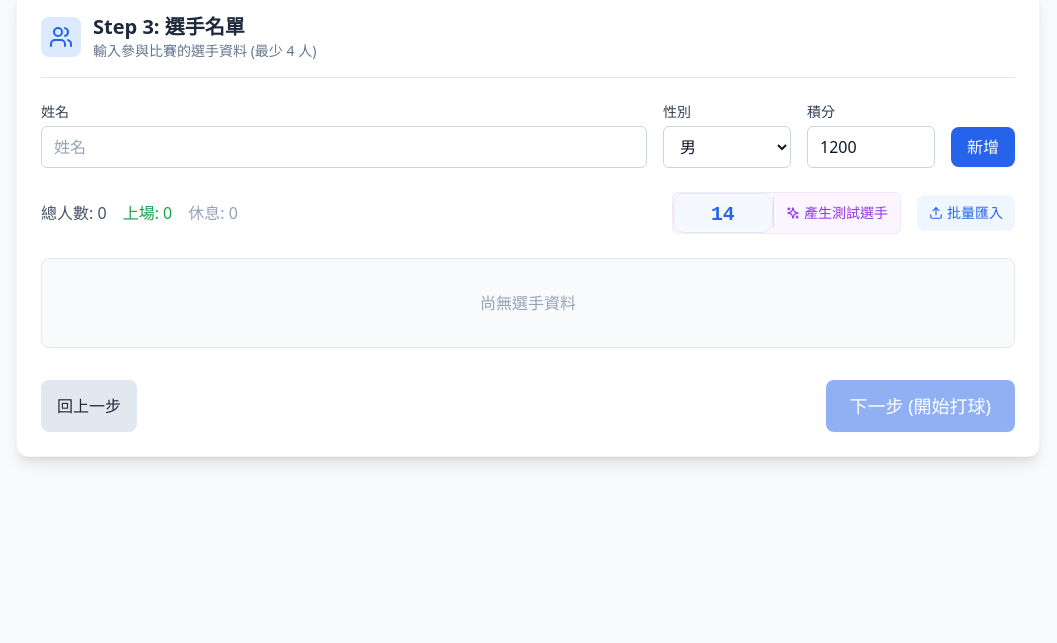
Test case: PlayerListScreen › keeps "下一步" disabled until at least 4 active players exist
(page scrolled)
Expected: the button "下一步 (開始打球)" is disabled, [826,380,1015,432]
Step 1. Type "P1" into the field with placeholder "姓名" → (344, 147), box [41,126,647,168]
Step 2. Click the button "新增" → (983, 147), box [951,127,1015,167]
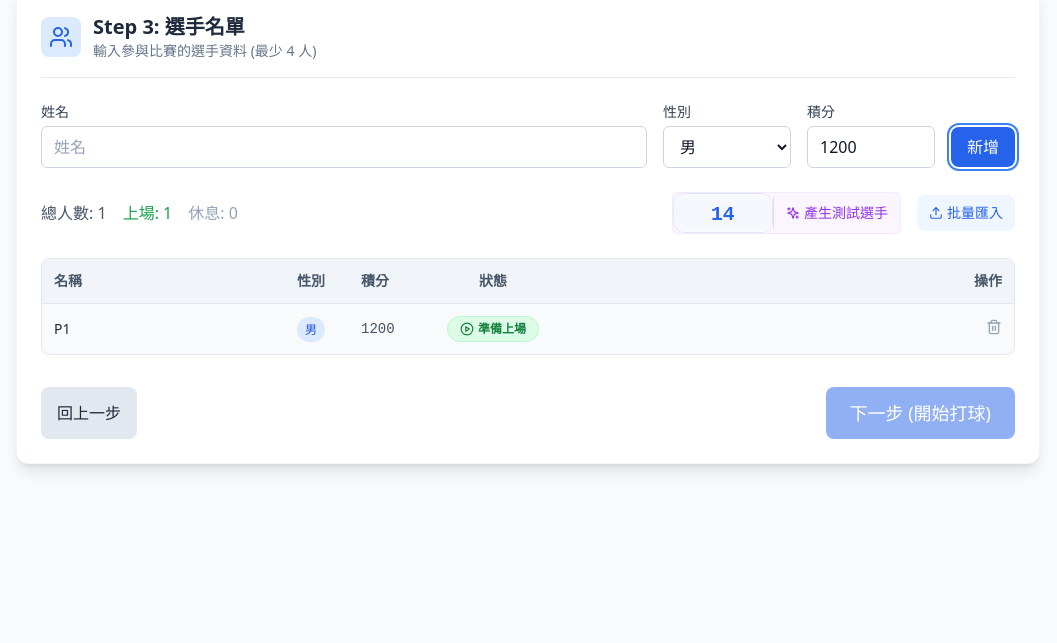
Step 3. Type "P2" into the field with placeholder "姓名" → (344, 147), box [41,126,647,168]
Step 4. Click the button "新增" → (983, 147), box [951,127,1015,167]
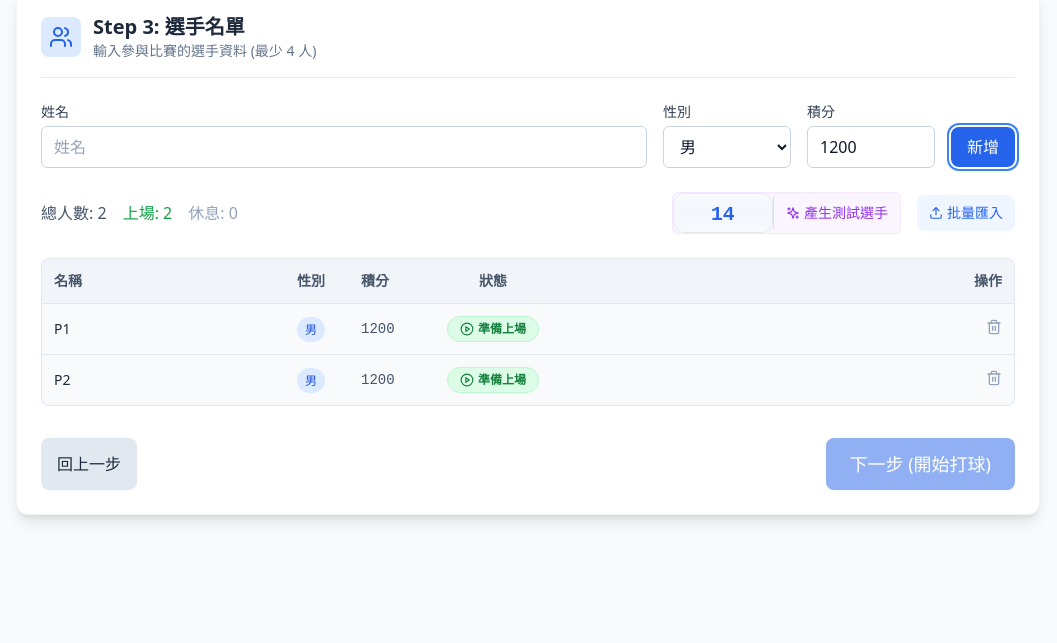
Step 5. Type "P3" into the field with placeholder "姓名" → (344, 147), box [41,126,647,168]
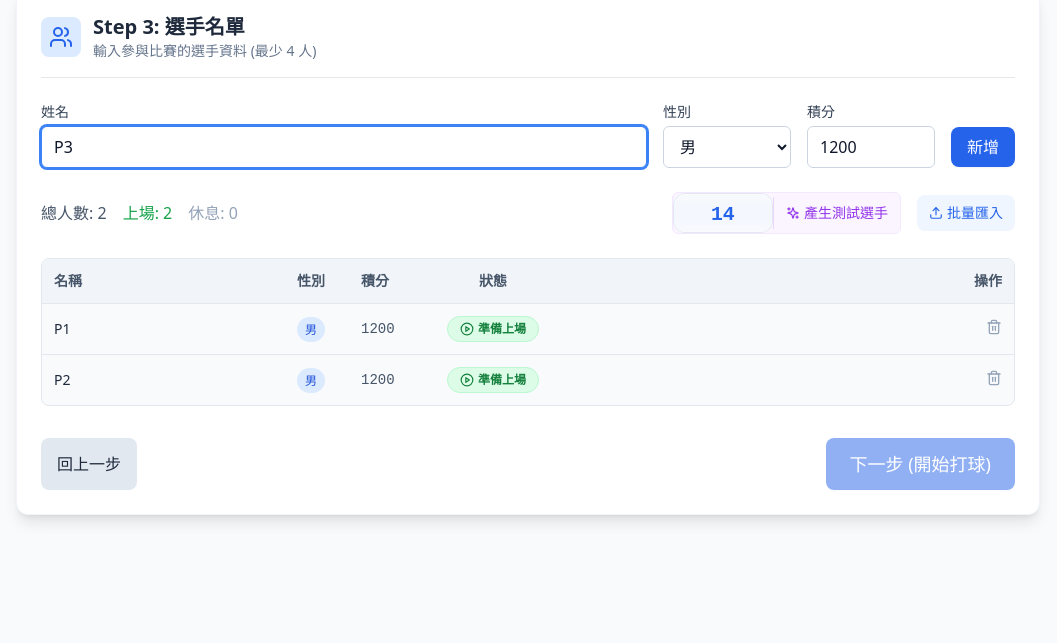
Step 6. Click the button "新增" → (983, 147), box [951,127,1015,167]
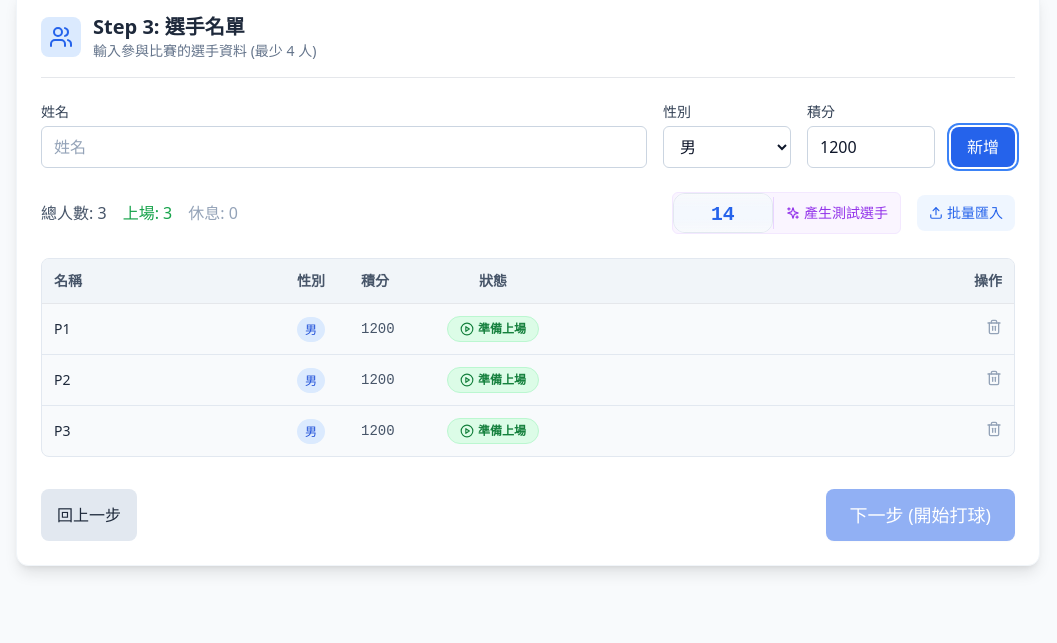
Expected: the button "下一步 (開始打球)" is disabled, [826,489,1015,541]
Step 7. Type "P4" into the field with placeholder "姓名" → (344, 147), box [41,126,647,168]
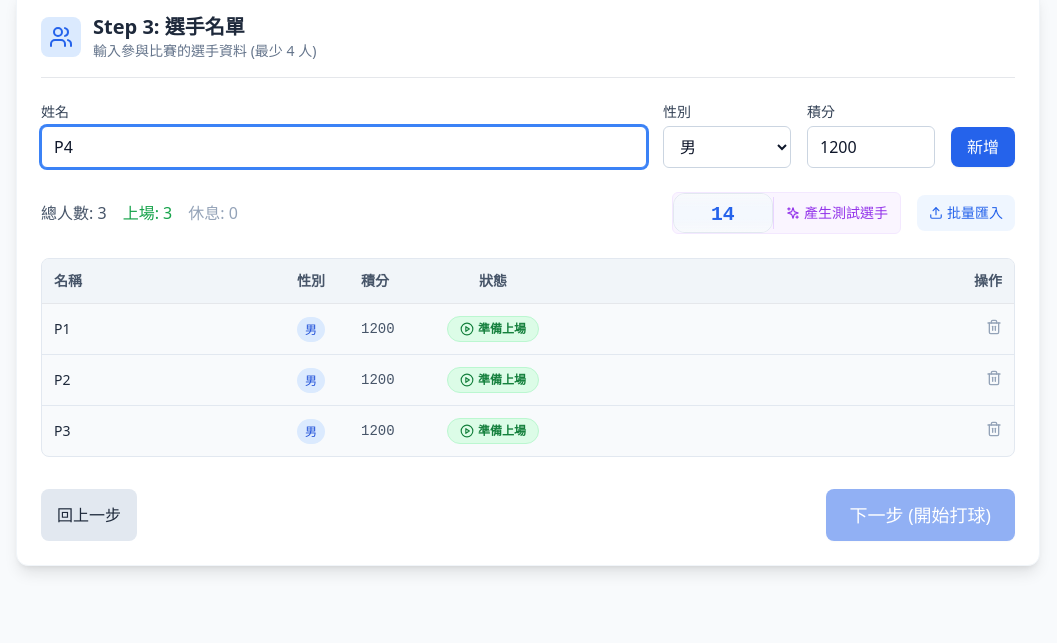
Step 8. Click the button "新增" → (983, 147), box [951,127,1015,167]
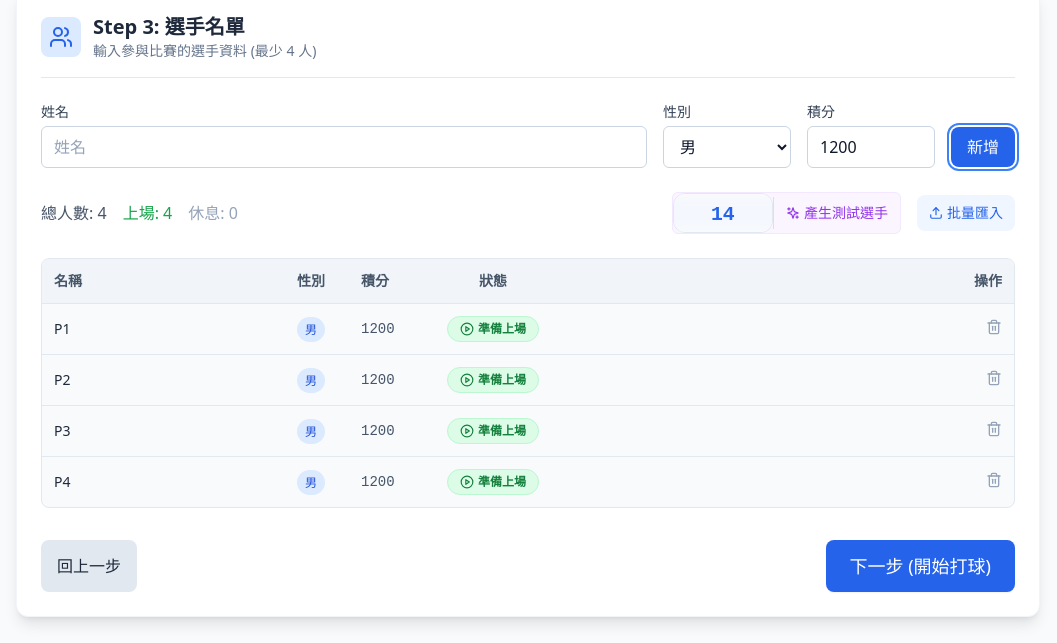
Result: the button "下一步 (開始打球)" is enabled at [826,540,1015,592]
